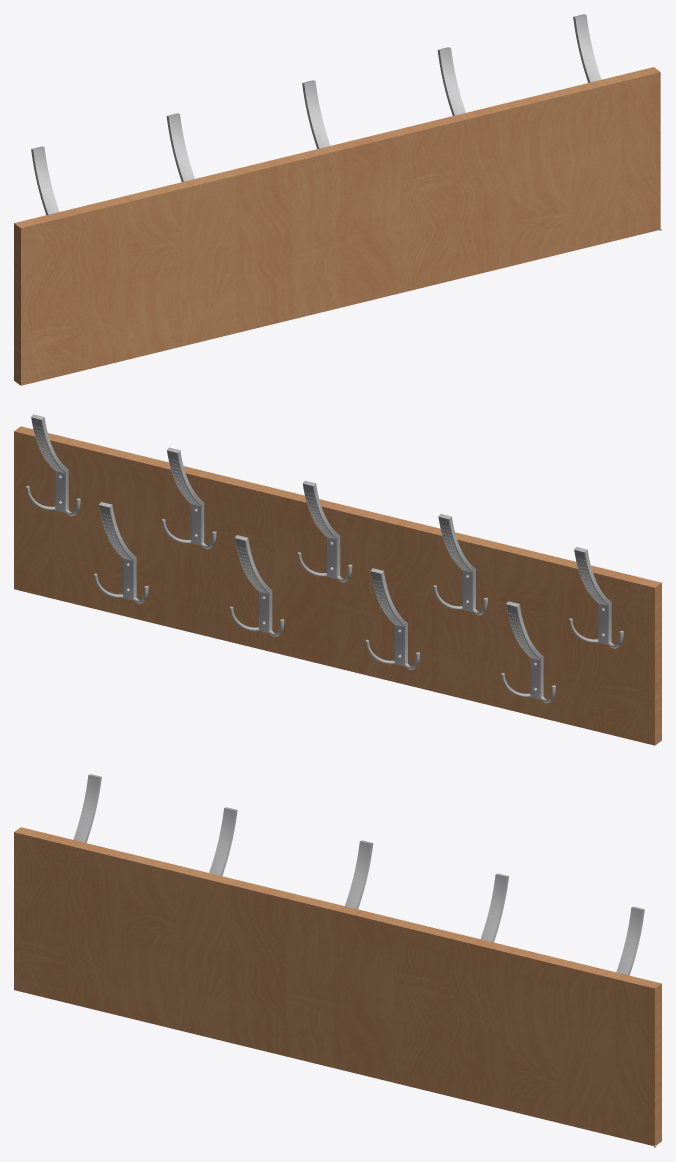
The model's file is veshalka_garderobnaja_nastennaja.glb.
3 renders of one model, top to bottom at view 1: azimuth 30°, elevation 25°; view 2: azimuth 150°, elevation 25°; view 3: azimuth 330°, elevation 25°, orthographic.
Visible parts, largest first — view 1: Shape_IndexedFaceSet, Shape_IndexedFaceSet.007_NON, Shape_IndexedFaceSet.001_NON, Shape_IndexedFaceSet.003_NON, Shape_IndexedFaceSet.005_NON, Shape_IndexedFaceSet.009_NON; view 2: Shape_IndexedFaceSet, Shape_IndexedFaceSet.006_NON, Shape_IndexedFaceSet.005_NON, Shape_IndexedFaceSet.007_NON, Shape_IndexedFaceSet.009_NON, Shape_IndexedFaceSet.002_NON, Shape_IndexedFaceSet.003_NON, Shape_IndexedFaceSet.004_NON, Shape_IndexedFaceSet.008_NON, Shape_IndexedFaceSet.001_NON; view 3: Shape_IndexedFaceSet, Shape_IndexedFaceSet.007_NON, Shape_IndexedFaceSet.001_NON, Shape_IndexedFaceSet.009_NON, Shape_IndexedFaceSet.005_NON, Shape_IndexedFaceSet.003_NON.
Boxes of the visible parts, x1,y1,x2,y2 form: Shape_IndexedFaceSet: (14,67,660,385); Shape_IndexedFaceSet.007_NON: (437,47,465,115); Shape_IndexedFaceSet.001_NON: (31,146,59,214); Shape_IndexedFaceSet.003_NON: (166,113,194,181); Shape_IndexedFaceSet.005_NON: (302,80,330,148); Shape_IndexedFaceSet.009_NON: (573,14,601,82); Shape_IndexedFaceSet: (14,426,661,745); Shape_IndexedFaceSet.006_NON: (229,535,284,636); Shape_IndexedFaceSet.005_NON: (297,480,352,582); Shape_IndexedFaceSet.007_NON: (162,447,216,549); Shape_IndexedFaceSet.009_NON: (26,414,80,515); Shape_IndexedFaceSet.002_NON: (501,601,555,702); Shape_IndexedFaceSet.003_NON: (433,513,487,615); Shape_IndexedFaceSet.004_NON: (365,568,419,669); Shape_IndexedFaceSet.008_NON: (94,502,148,603); Shape_IndexedFaceSet.001_NON: (569,547,623,648); Shape_IndexedFaceSet: (14,827,661,1145); Shape_IndexedFaceSet.007_NON: (480,873,508,942); Shape_IndexedFaceSet.001_NON: (73,774,101,842); Shape_IndexedFaceSet.009_NON: (616,906,644,975); Shape_IndexedFaceSet.005_NON: (345,840,373,909); Shape_IndexedFaceSet.003_NON: (209,807,237,875).
Size of the model in its own units: 851 by 258 by 78.
11 materials, 10 textured.
